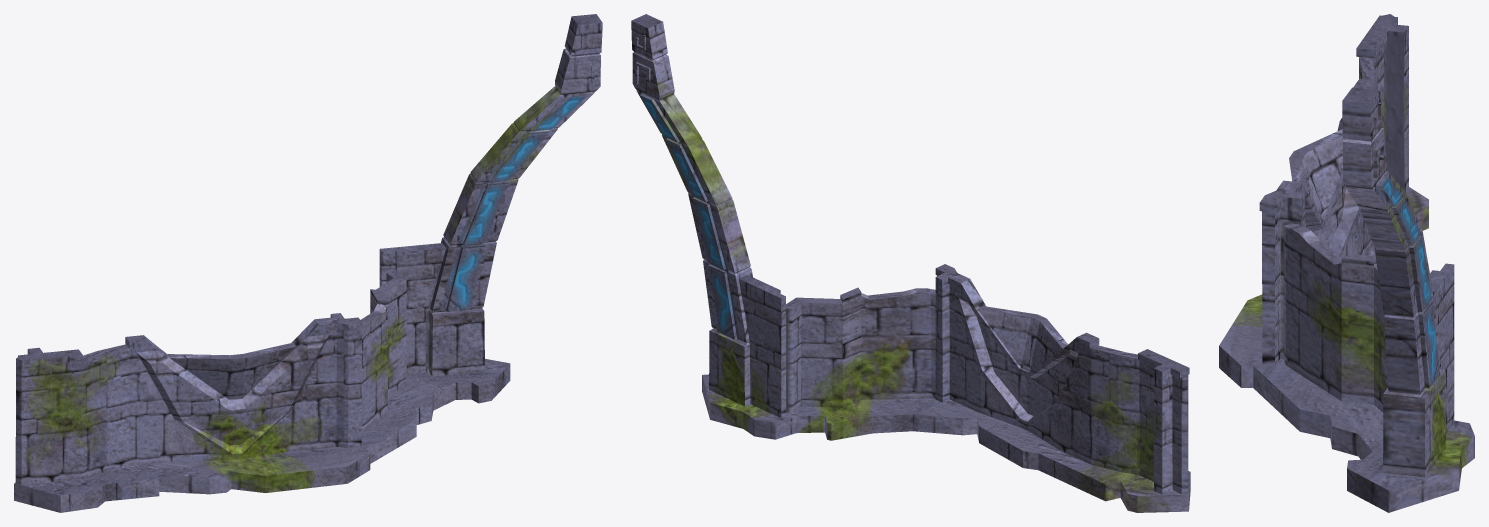
The picture shows the model from 3 angles, left to right: view 1: azimuth 30°, elevation 25°; view 2: azimuth 150°, elevation 25°; view 3: azimuth 270°, elevation 25°; orthographic projection. The views are drawn at different scales.
Size of the model in its own units: 22.54 by 13.22 by 6.67.
1 material, 1 textured.
